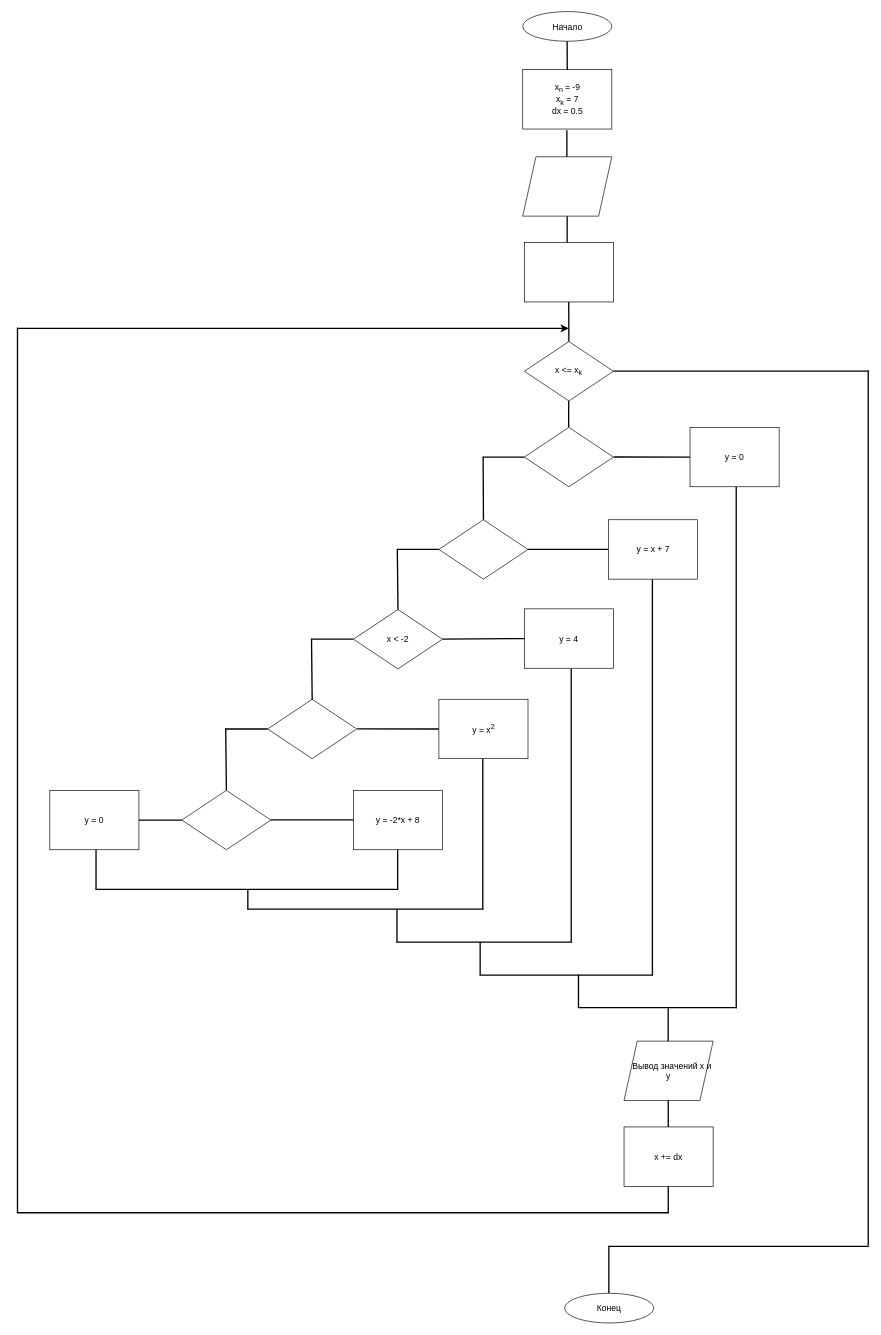
The diagram is 881 pixels wide and 1335 high, and some of its shapes have lost their labels. Each missing label, with the centre of its shape:
x < -3: the point at 483,549
x < -7: the point at 568,457
x < 4: the point at 226,820
x <= 2: the point at 312,729
x = x n: the point at 568,272
Вывод шапки таблицы: the point at 567,186
